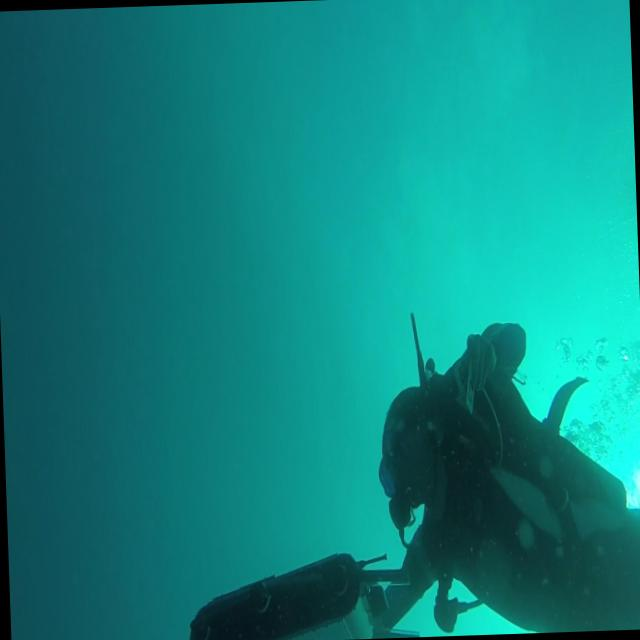human: (177, 306, 640, 640)
